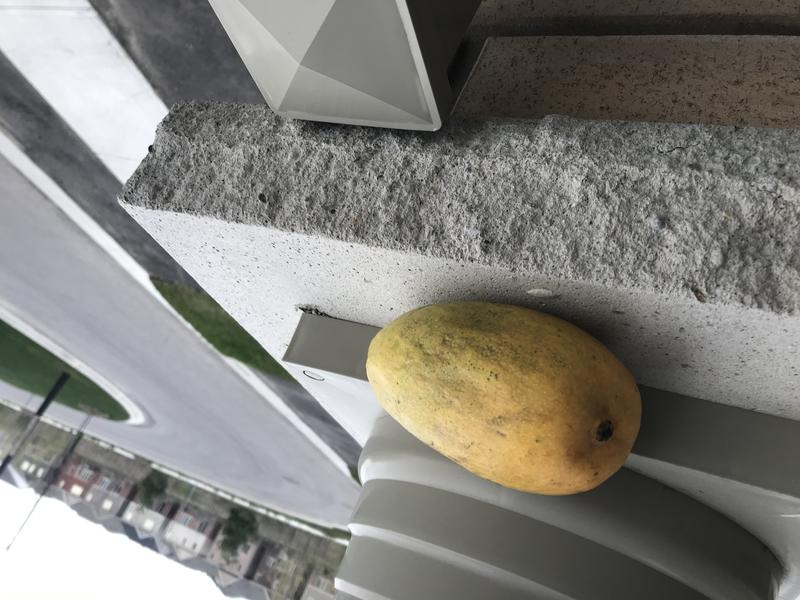mango: (358, 287, 651, 506)
